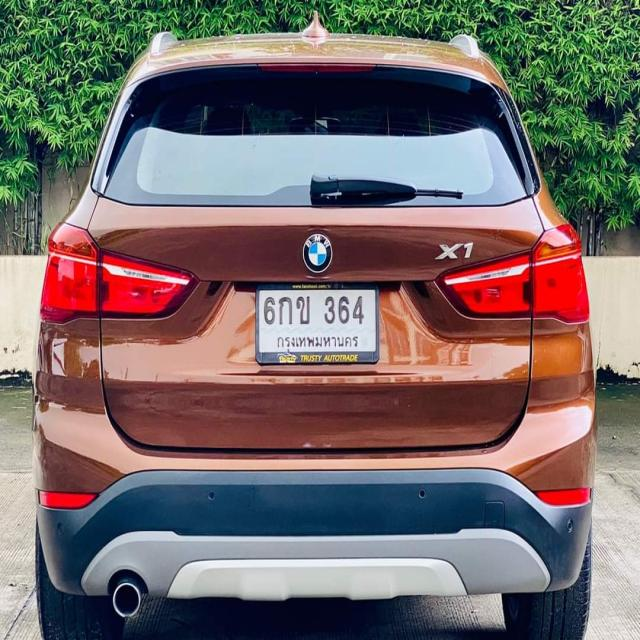license_plate: (255, 281, 382, 366)
